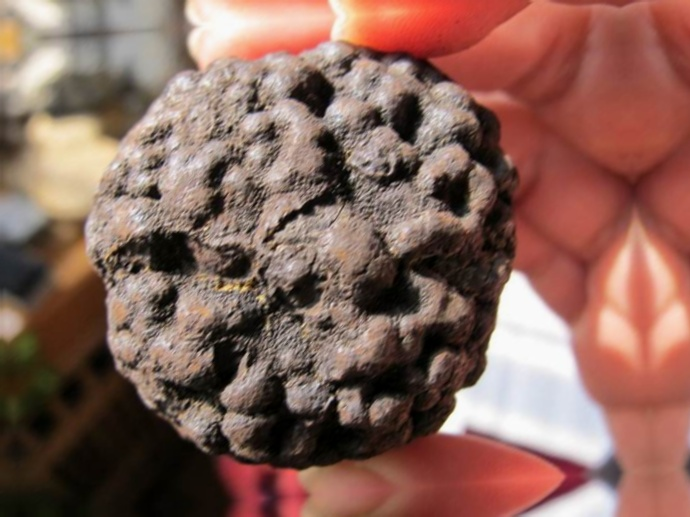halobolite: (67, 33, 537, 484)
